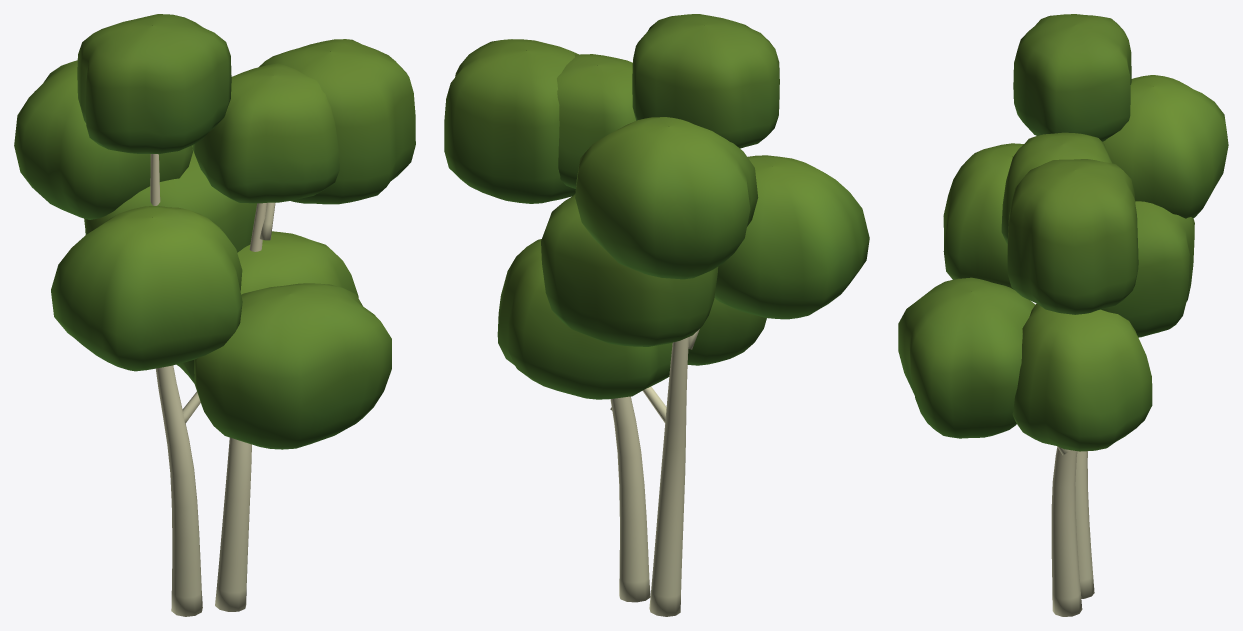
The model's file is silver_birch.glb.
3 views of the same model, side by side, from view 1: azimuth 30°, elevation 25°; view 2: azimuth 150°, elevation 25°; view 3: azimuth 270°, elevation 25° (orthographic). The views are drawn at different scales.
Visible parts, largest first — view 1: Foliage, Wood; view 2: Foliage, Wood; view 3: Foliage, Wood.
Part boxes in pixels (x1,y1,x2,y2): Foliage: [14, 14, 415, 449]; Wood: [150, 154, 275, 616]; Foliage: [444, 14, 869, 399]; Wood: [610, 329, 699, 616]; Foliage: [898, 14, 1228, 451]; Wood: [1051, 446, 1094, 616].
Bounding box in the file's own units: 4.47 × 6.95 × 3.77.
